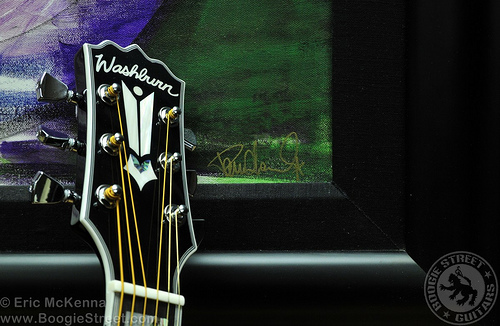guitar: (37, 39, 201, 326)
